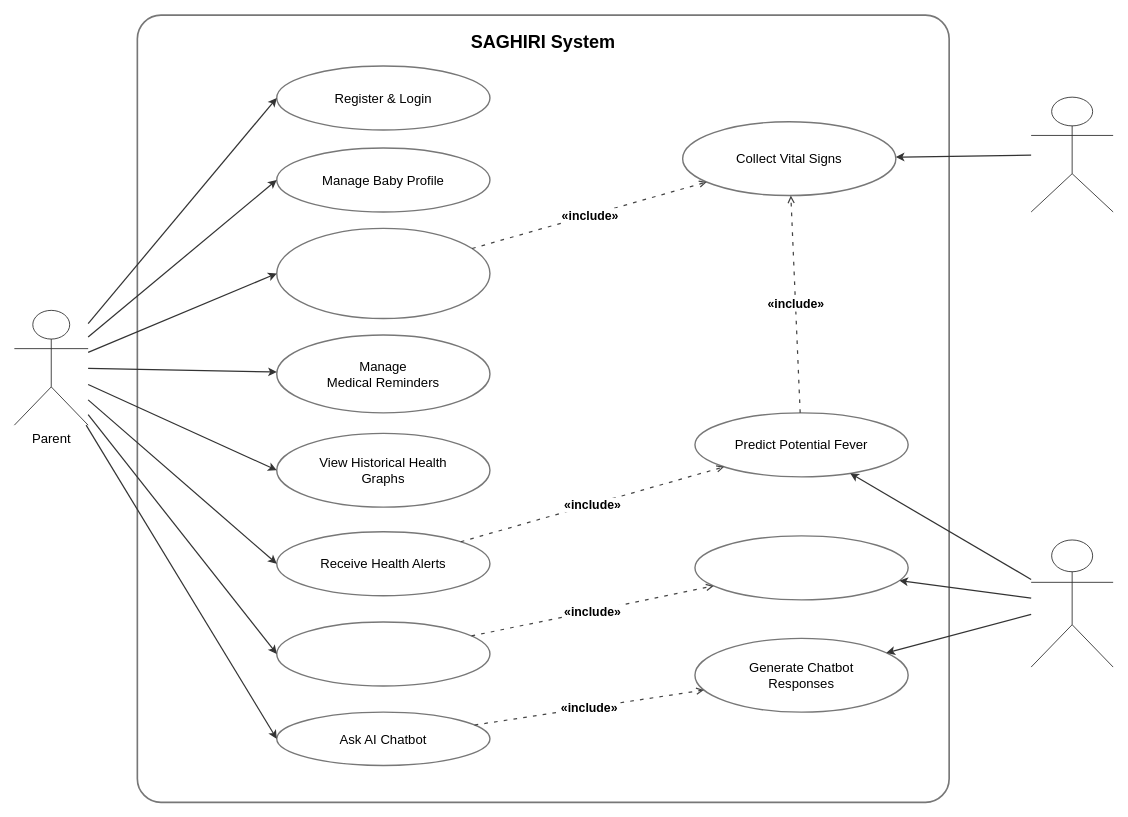
Image size: 1128x817. Some labels were removed from this diagram. The shapes that lost their labels are listed below. From the top down, each one's box as (x1, y1, x2, y2) in pixels, then its label:
(1030, 96, 1113, 212): Wristband
(276, 227, 490, 319): Monitor Real-Time Vital Signs
(694, 535, 908, 600): Analyze Baby Cry
(1030, 539, 1113, 667): AI Service
(276, 621, 490, 686): Upload Cry Audio
